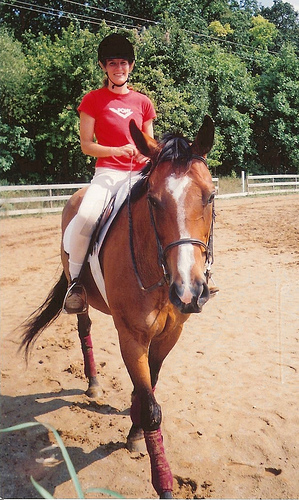without_mask: (90, 38, 140, 88)
